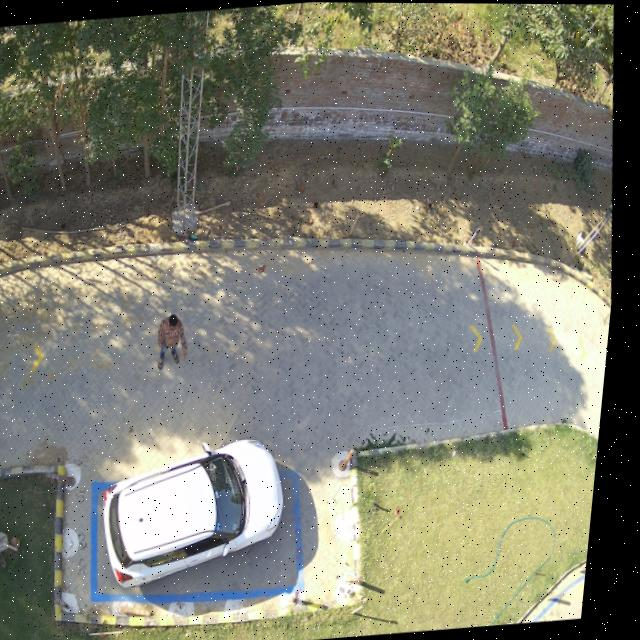car: (113, 438, 293, 585)
